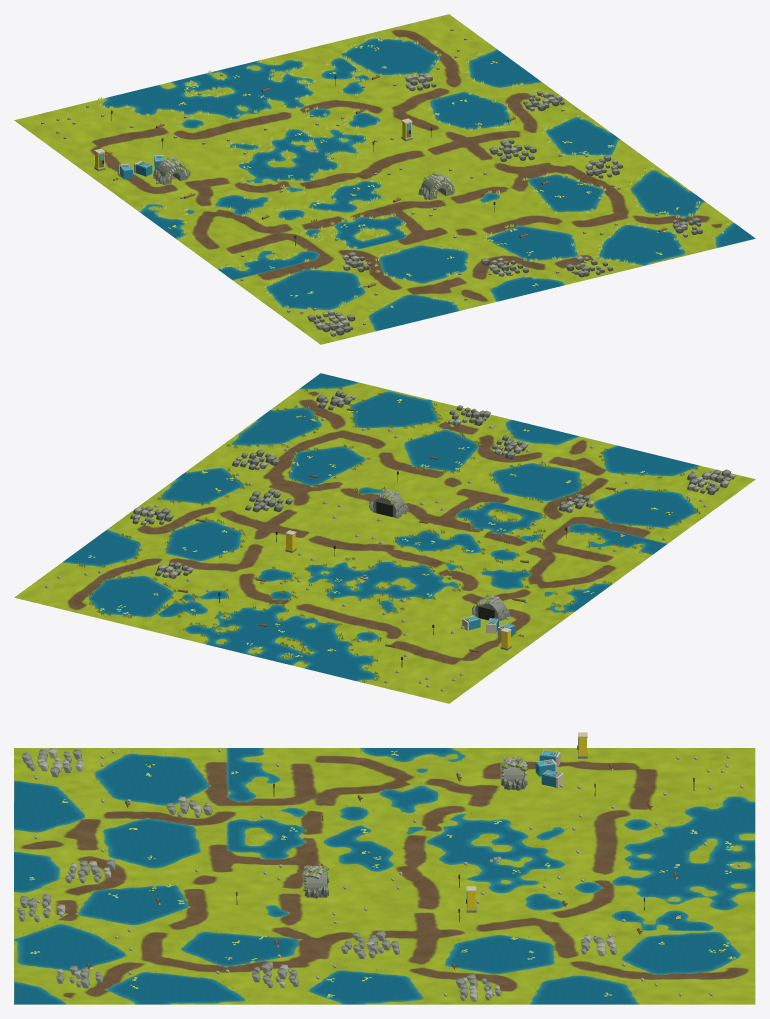
File: terrain-props.glb
The picture shows the model from 3 angles, top to bottom: view 1: azimuth 30°, elevation 25°; view 2: azimuth 150°, elevation 25°; view 3: azimuth 270°, elevation 25°; orthographic projection. The views are drawn at different scales.
Parts seen in each view (by area): view 1: hm05-flat-authored-ground-water-road-tessellation, hm05_fixed_landmarks_shore_plants; view 2: hm05-flat-authored-ground-water-road-tessellation, hm05_fixed_landmarks_shore_plants; view 3: hm05-flat-authored-ground-water-road-tessellation, hm05_fixed_landmarks_shore_plants.
Boxes of the visible parts, <box> form: hm05-flat-authored-ground-water-road-tessellation: <box>14,14,755,344</box>; hm05_fixed_landmarks_shore_plants: <box>41,28,729,336</box>; hm05-flat-authored-ground-water-road-tessellation: <box>14,373,755,703</box>; hm05_fixed_landmarks_shore_plants: <box>45,386,735,691</box>; hm05-flat-authored-ground-water-road-tessellation: <box>14,748,755,1004</box>; hm05_fixed_landmarks_shore_plants: <box>17,732,754,1001</box>.
Bounding box in the file's own units: 64 × 2.99 × 78.21.
3 materials, 2 textured.
